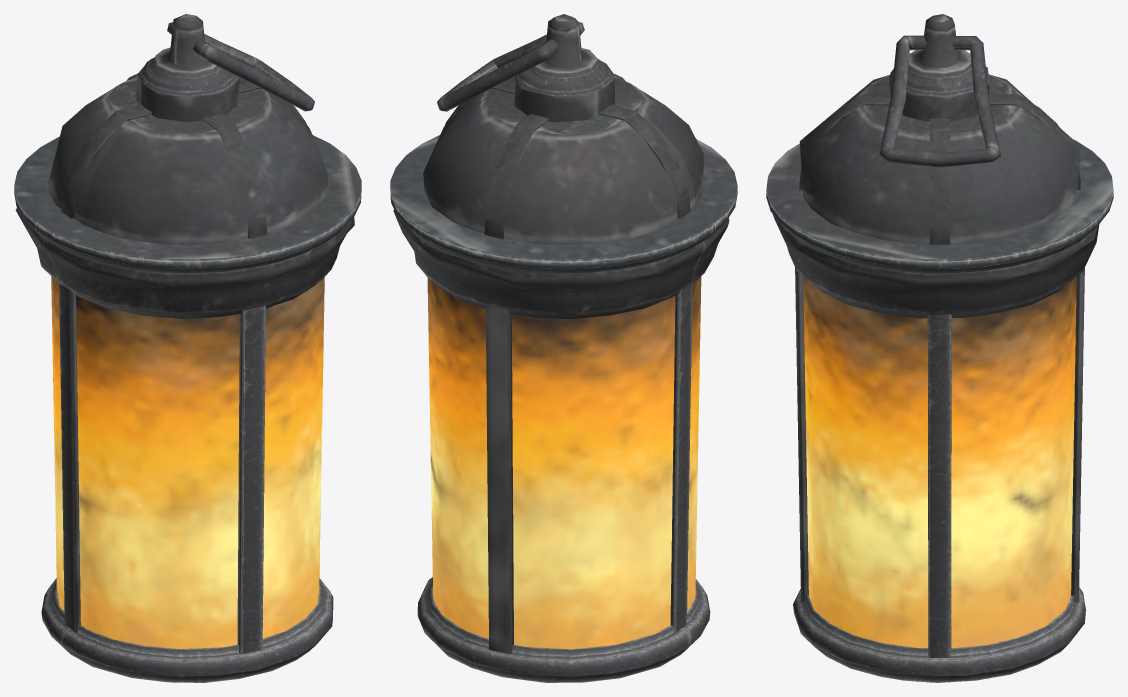
The model's file is SM_Lantern-Hanging-LargeSitting.fbx.
3 renders of one model, left to right at view 1: azimuth 30°, elevation 25°; view 2: azimuth 150°, elevation 25°; view 3: azimuth 270°, elevation 25°, orthographic.
Visible parts, largest first — view 1: SM_Lantern-Hanging-LargeSitting_LOD0; view 2: SM_Lantern-Hanging-LargeSitting_LOD0; view 3: SM_Lantern-Hanging-LargeSitting_LOD0.
Part boxes in pixels (box(x1,y1,x2,y2)): SM_Lantern-Hanging-LargeSitting_LOD0: box(14, 14, 361, 682); SM_Lantern-Hanging-LargeSitting_LOD0: box(390, 14, 737, 682); SM_Lantern-Hanging-LargeSitting_LOD0: box(766, 14, 1113, 682).
Size of the model in its own units: 27.01 by 27.04 by 52.26.
Materials: 1 (1 with a texture image).
